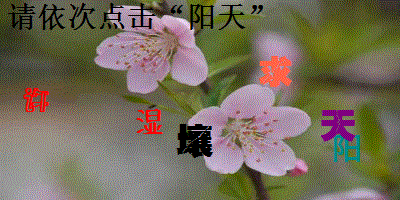result: (188, 1, 247, 32)
text: (175, 122, 214, 160), (319, 108, 358, 143), (258, 54, 295, 88), (331, 132, 364, 164), (134, 107, 165, 137), (22, 86, 53, 114)
